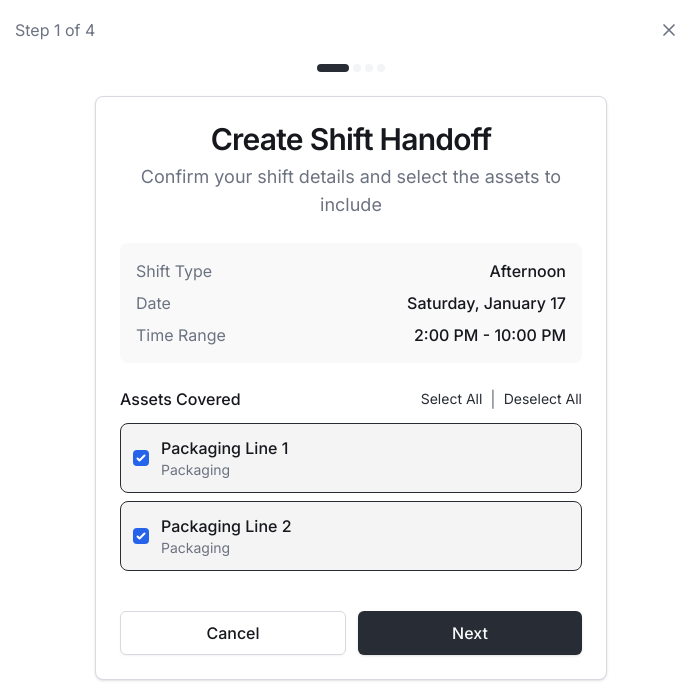
Test: HandoffCreator › allows navigating back between steps
Expected: the heading "Create Shift Handoff" is shown, top-left (211, 121), bottom-right (491, 157)
Go to step 2
Click the button "Next" at [470, 633], box top-left (358, 611), bottom-right (582, 655)
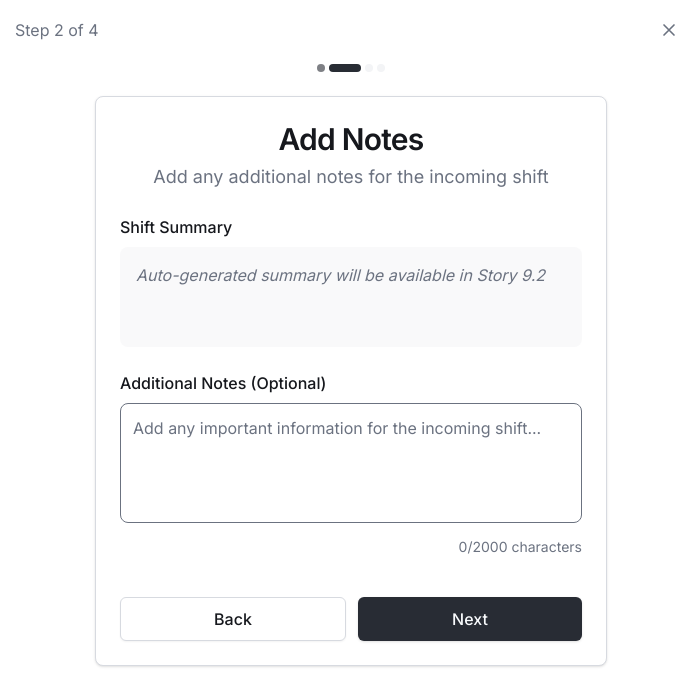
Expected: the heading "Add Notes" is shown, top-left (278, 121), bottom-right (424, 157)
 Go back
Click the button "Back" at [233, 619], box top-left (120, 597), bottom-right (346, 641)
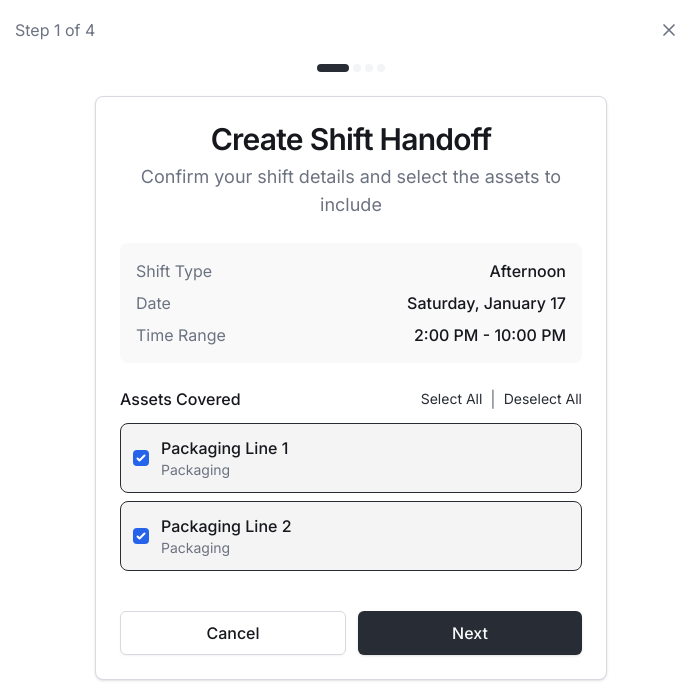
Expected: the heading "Create Shift Handoff" is shown, top-left (211, 121), bottom-right (491, 157)
